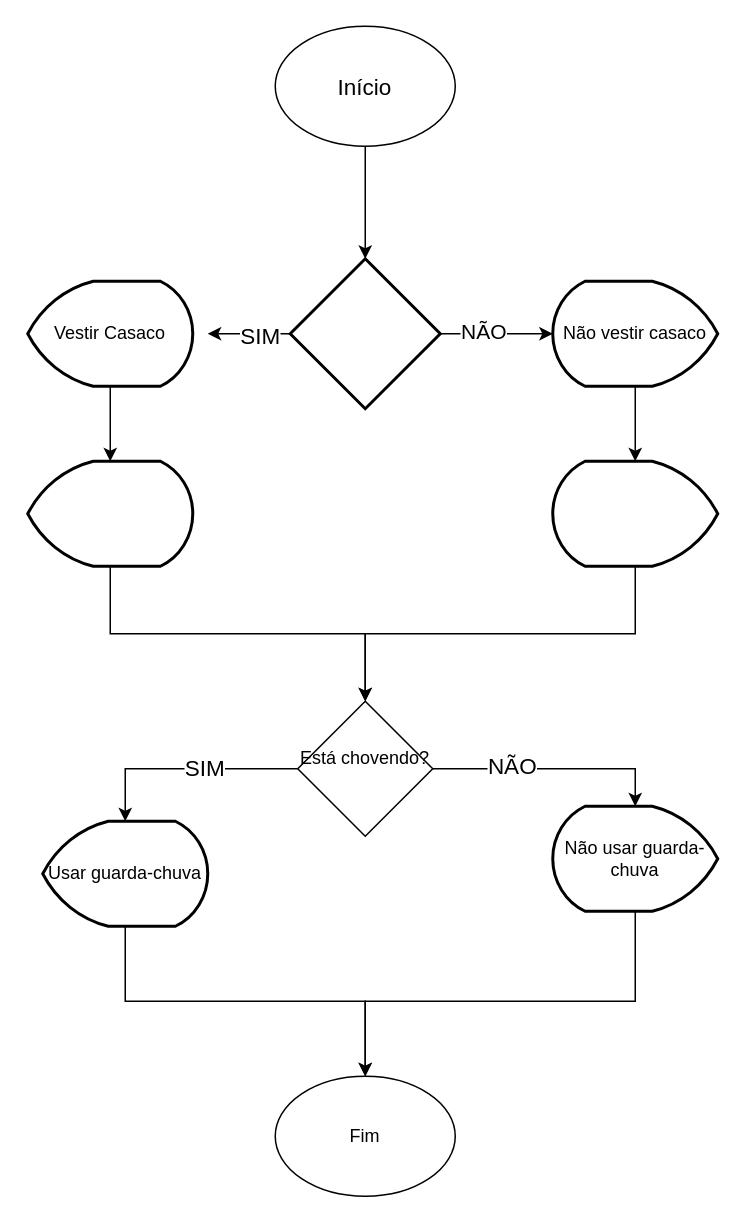
Some shapes in this 744 by 1223 pixel diagram are drawn without their labels. Here are the shapes that lost their labels. From the top down, the box of each, then its label:
(288, 256, 441, 410): Está frio?
(26, 459, 194, 567): Não usar roupas leves
(550, 459, 718, 567): Usar roupas leves
